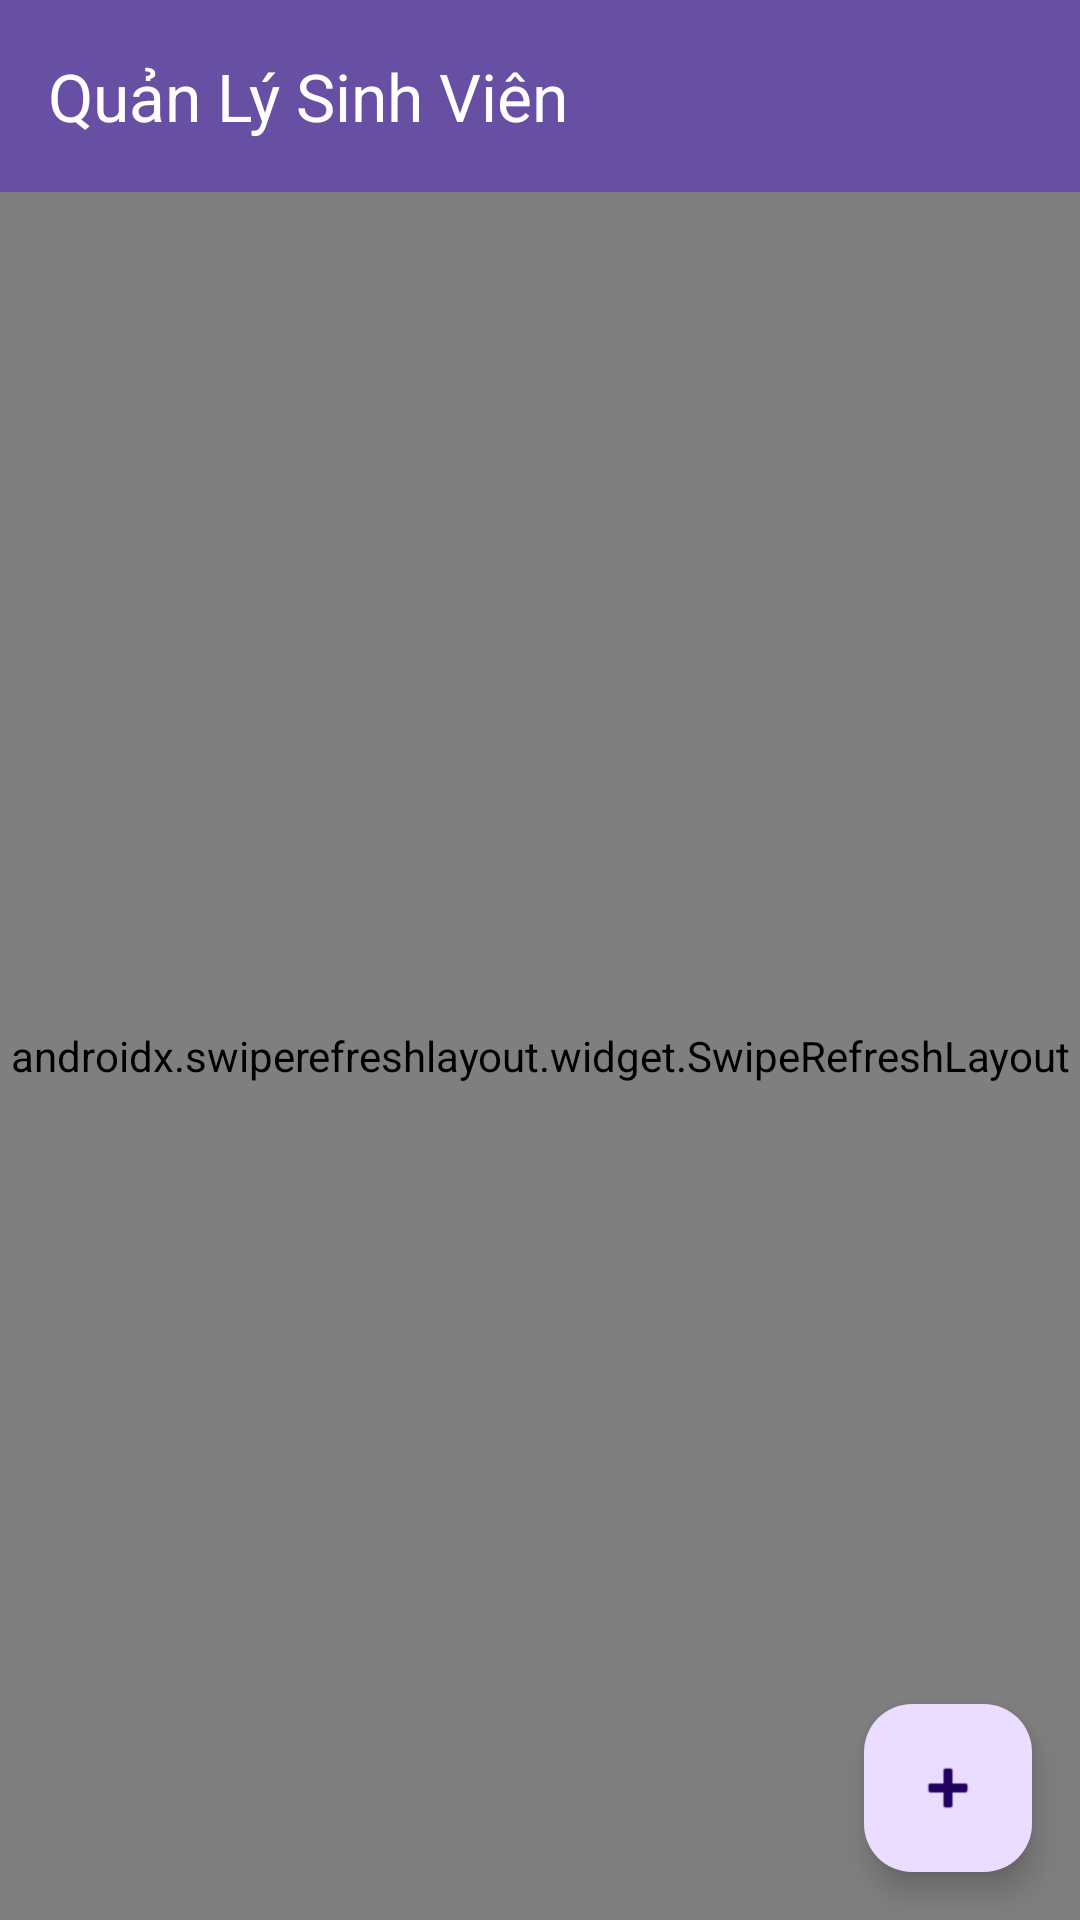

Screen size 1080px×1920px. Icon name, then its box in pixels as (x1, y1, x2, y2):
Thêm sinh viên: (864, 1704, 1032, 1872)
